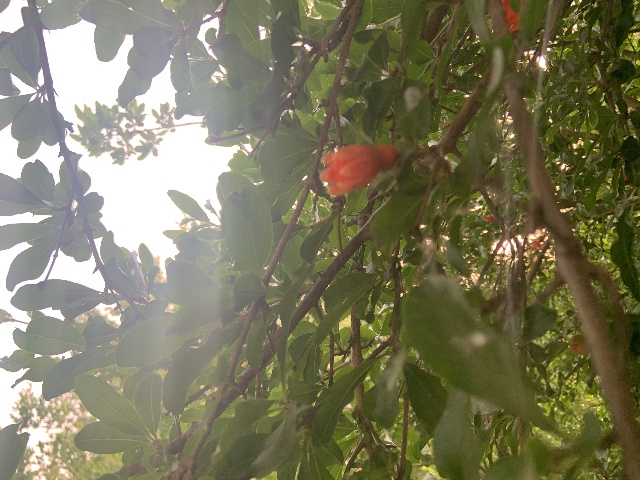flower: (320, 143, 397, 195)
